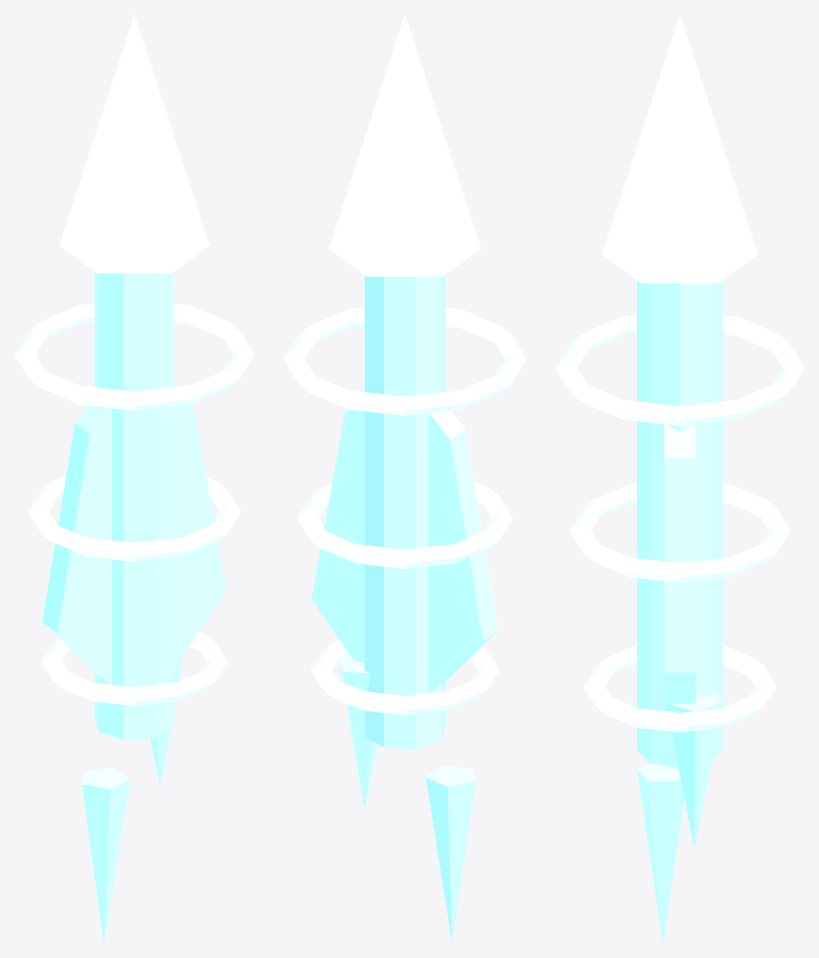
Rendered from photon_sidearm_pulse.glb.
The picture shows the model from 3 angles, left to right: view 1: azimuth 30°, elevation 25°; view 2: azimuth 150°, elevation 25°; view 3: azimuth 270°, elevation 25°; orthographic projection. The views are drawn at different scales.
Visible parts, largest first — view 1: PhotonNeedle, PhotonTip, BlueFin_-1, BlueFin_1, CoherenceRing_2, CoherenceRing_1, CoherenceRing_0, PhotonWake_1, PhotonWake_0; view 2: PhotonNeedle, PhotonTip, BlueFin_-1, BlueFin_1, CoherenceRing_2, CoherenceRing_1, PhotonWake_1, CoherenceRing_0, PhotonWake_0; view 3: PhotonNeedle, PhotonTip, CoherenceRing_2, BlueFin_1, CoherenceRing_1, CoherenceRing_0, PhotonWake_1, PhotonWake_0.
Boxes of the visible parts, box(x1,y1,x2,y2) form: PhotonNeedle: box(94, 272, 174, 739); PhotonTip: box(59, 14, 209, 273); BlueFin_-1: box(42, 405, 111, 684); BlueFin_1: box(174, 404, 226, 667); CoherenceRing_2: box(14, 303, 254, 410); CoherenceRing_1: box(27, 475, 241, 561); CoherenceRing_0: box(41, 632, 227, 706); PhotonWake_1: box(81, 768, 130, 942); PhotonWake_0: box(150, 657, 182, 788); PhotonNeedle: box(364, 275, 445, 749); PhotonTip: box(329, 15, 480, 276); BlueFin_-1: box(428, 410, 498, 692); BlueFin_1: box(311, 409, 364, 663); CoherenceRing_2: box(283, 307, 526, 415); CoherenceRing_1: box(297, 481, 512, 568); PhotonWake_1: box(426, 766, 475, 942); CoherenceRing_0: box(310, 640, 499, 714); PhotonWake_0: box(338, 654, 377, 808); PhotonNeedle: box(637, 280, 722, 767); PhotonTip: box(602, 15, 757, 283); CoherenceRing_2: box(555, 314, 804, 425); BlueFin_1: box(664, 424, 695, 711); CoherenceRing_1: box(569, 483, 790, 582); CoherenceRing_0: box(583, 645, 776, 732); PhotonWake_1: box(637, 763, 684, 943); PhotonWake_0: box(666, 691, 723, 848).
Bounding box in the file's own units: 0.32 × 1.34 × 0.32.
